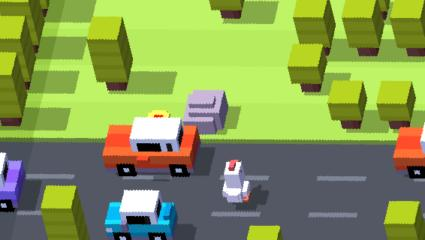hen: (221, 159, 251, 203)
obstacle: (102, 117, 201, 178), (105, 190, 178, 240), (87, 16, 134, 92), (41, 185, 90, 240), (0, 16, 36, 88), (292, 0, 336, 56), (343, 0, 385, 57), (0, 51, 29, 127), (184, 89, 230, 135), (0, 0, 45, 46), (288, 43, 328, 93), (328, 80, 368, 129), (377, 80, 417, 129), (390, 0, 425, 52), (392, 127, 425, 179), (383, 200, 425, 240), (0, 151, 26, 213), (210, 0, 244, 19), (246, 226, 281, 240)
